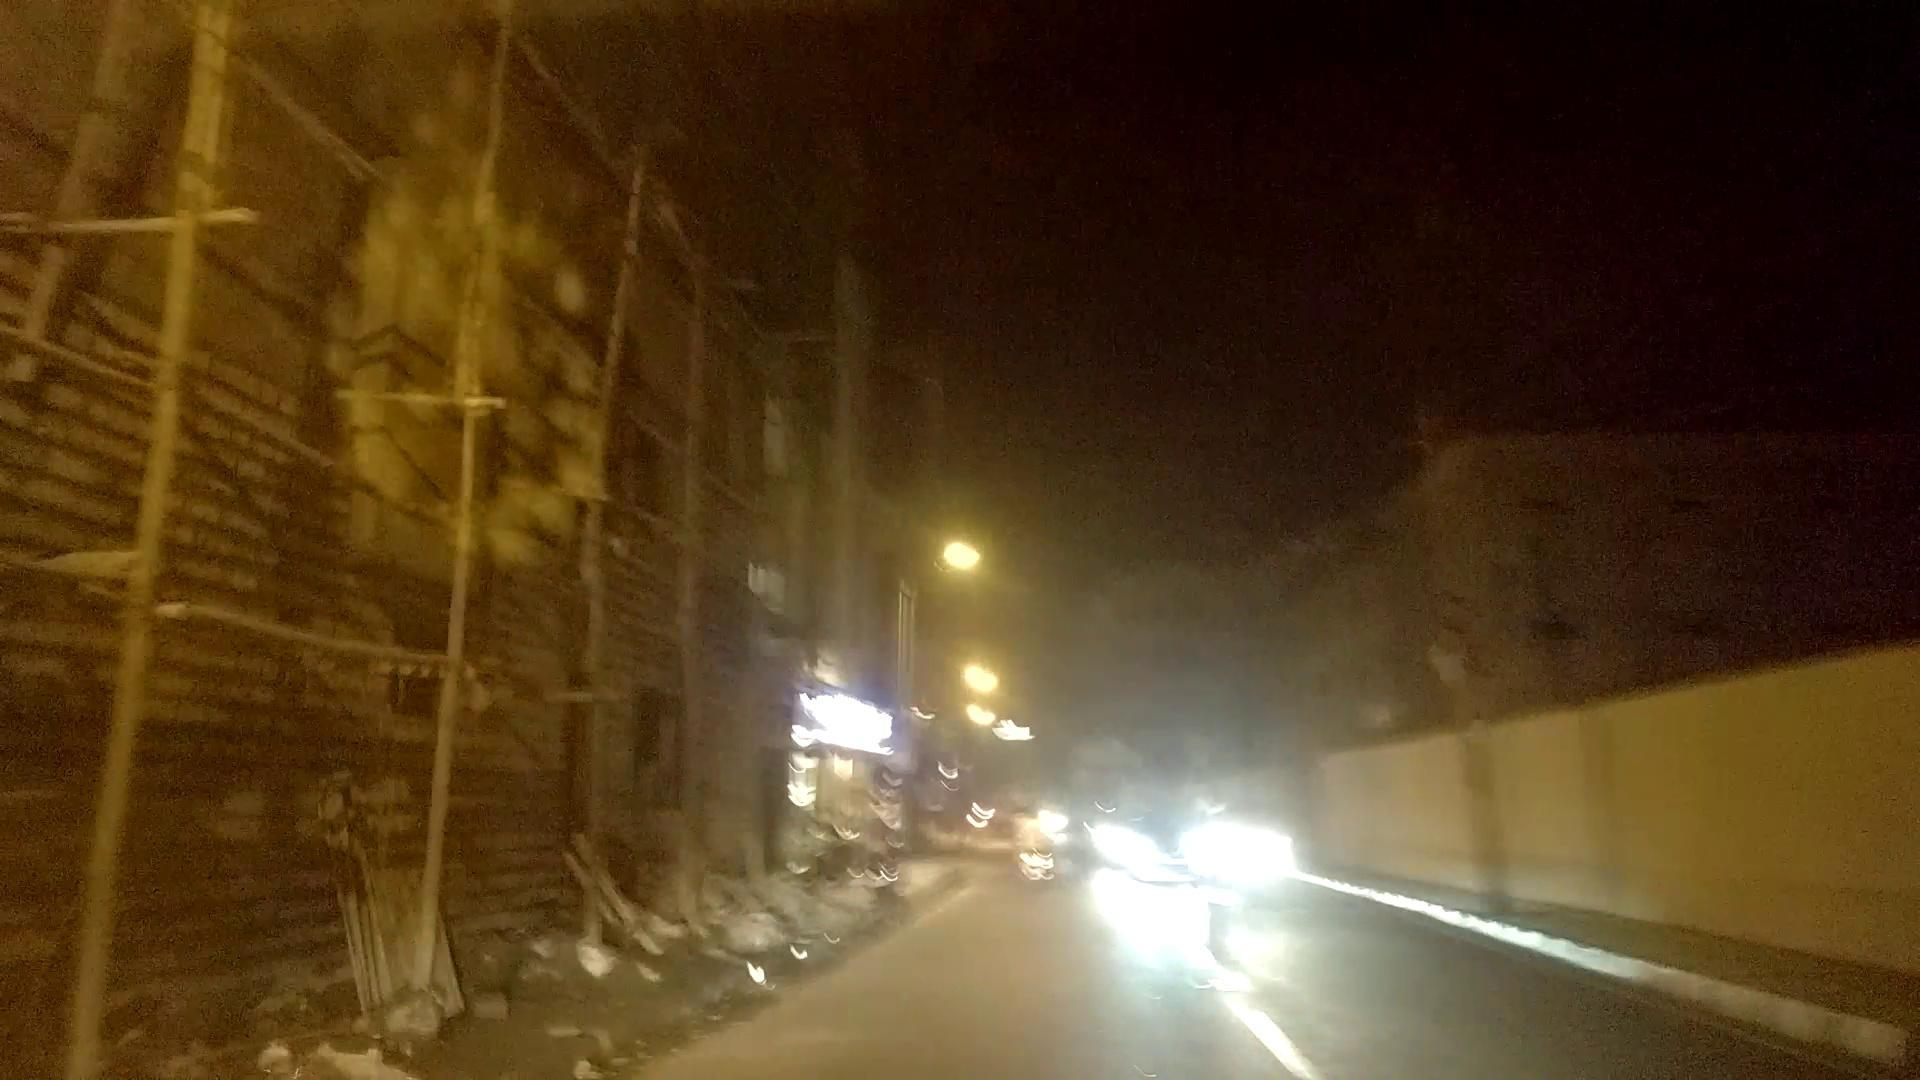on: (731, 332, 1215, 858)
